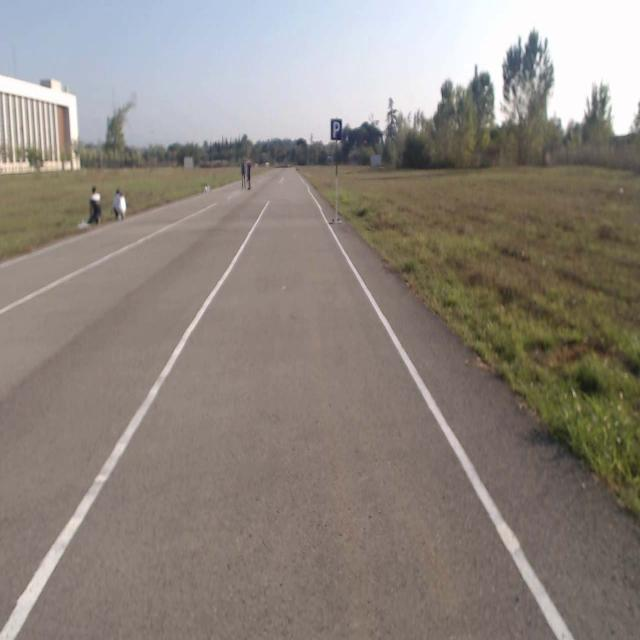park: (329, 118, 341, 140)
